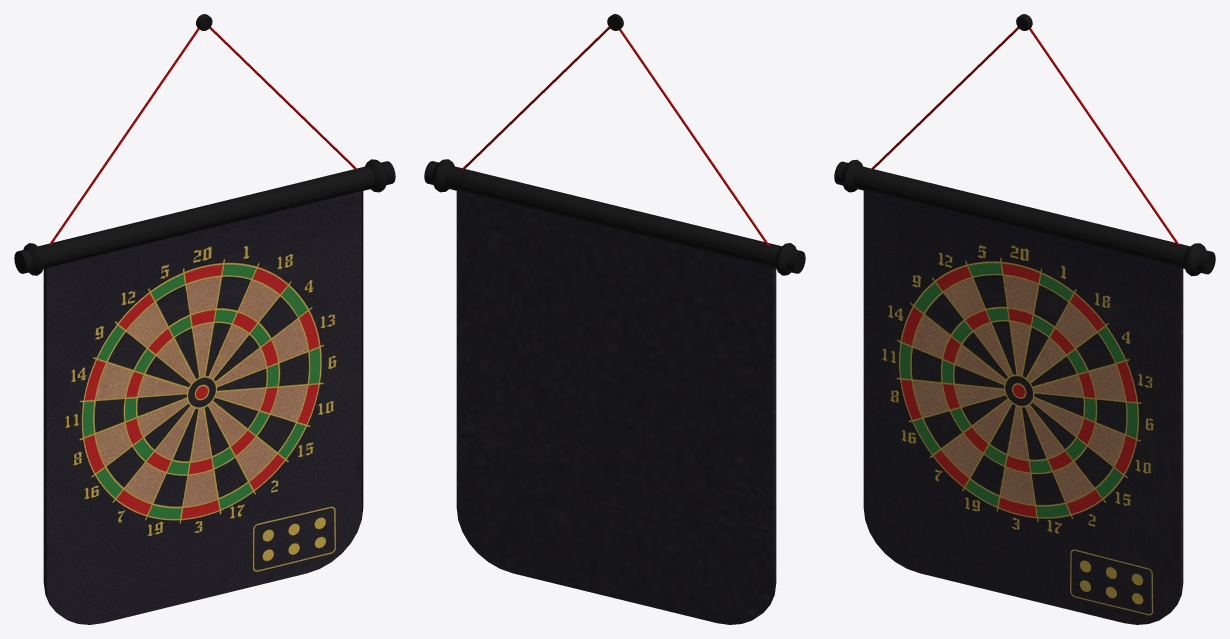
The model's file is Dart board.FBX.
The picture shows the model from 3 angles, left to right: view 1: azimuth 30°, elevation 25°; view 2: azimuth 150°, elevation 25°; view 3: azimuth 330°, elevation 25°; orthographic projection.
Visible parts, largest first — view 1: Dart board; view 2: Dart board; view 3: Dart board.
Part boxes in pixels (x1=…): Dart board: x1=14, y1=14, x2=395, y2=624; Dart board: x1=424, y1=14, x2=805, y2=624; Dart board: x1=834, y1=14, x2=1215, y2=624.
Bounding box in the file's own units: 50.26 × 75.6 × 4.02.
Materials: 1 (1 with a texture image).
